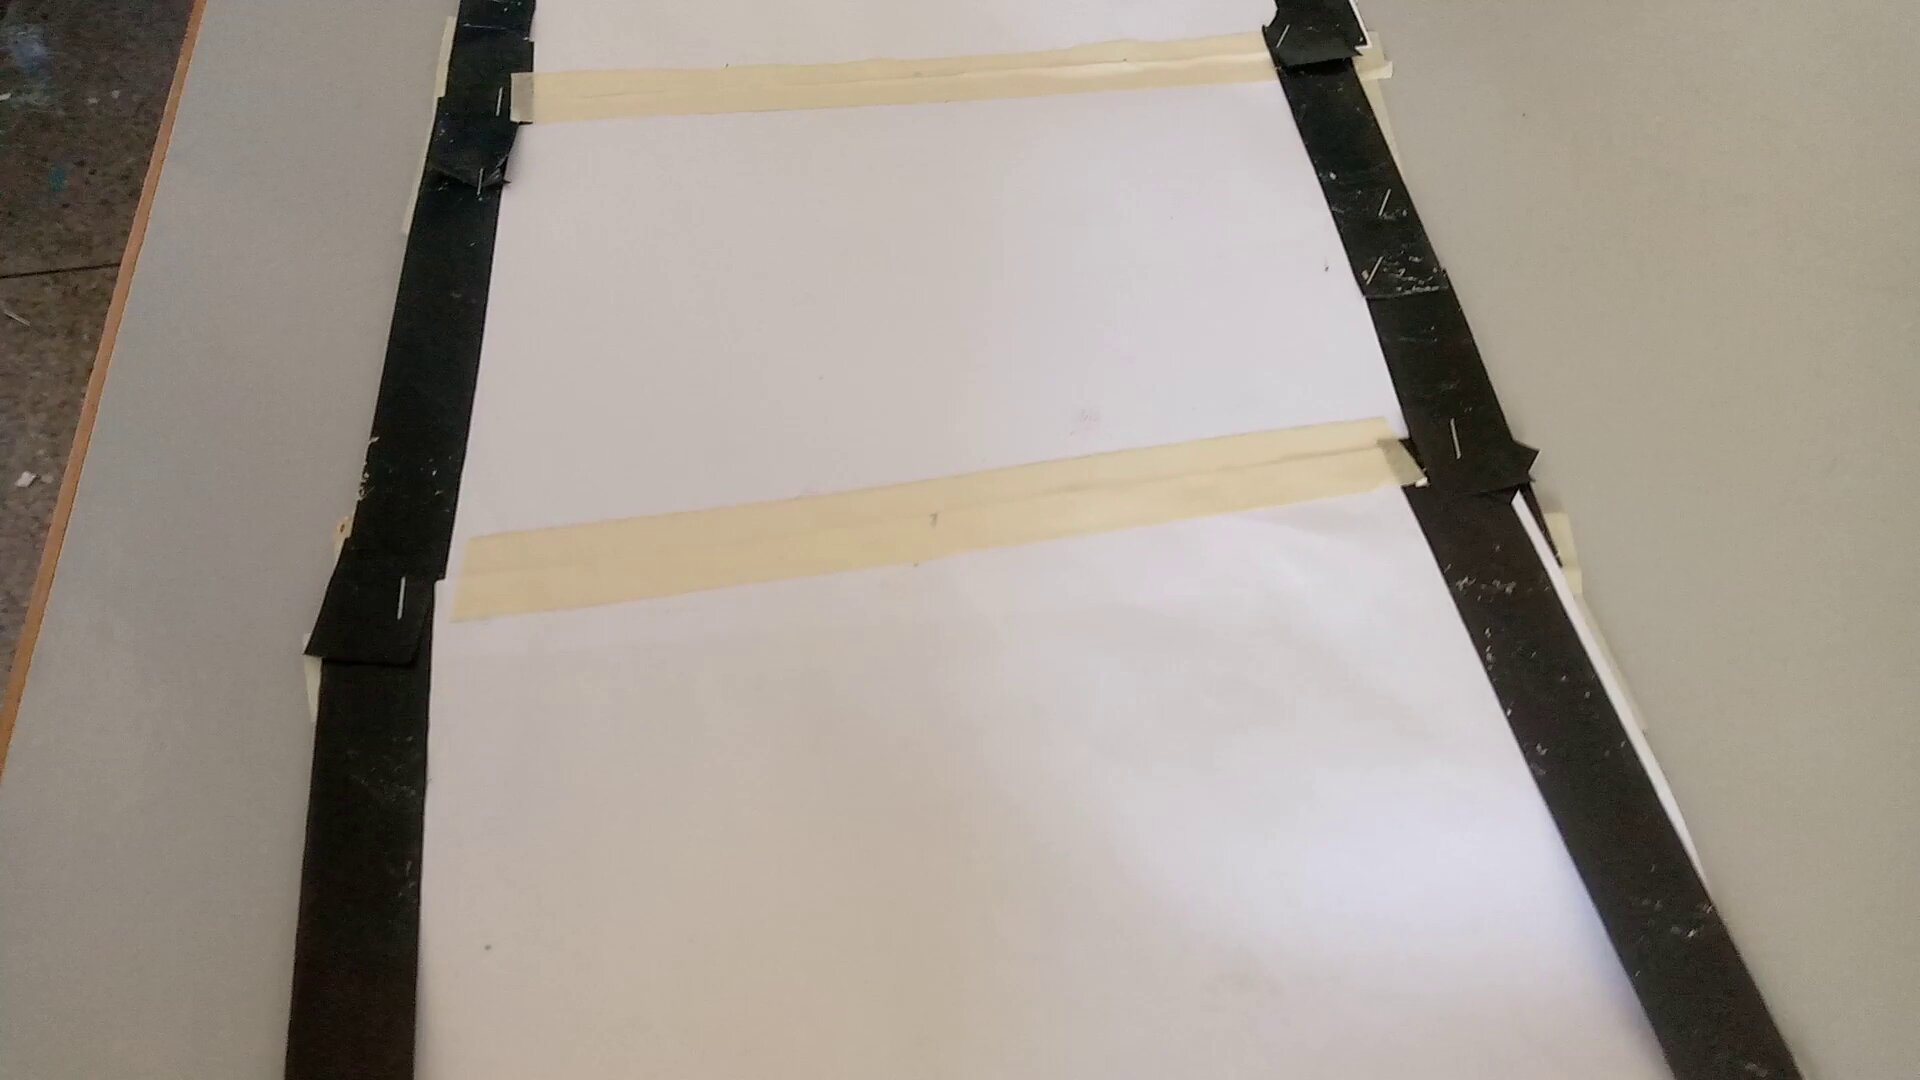right: (280, 338, 1734, 694), (389, 3, 1518, 211)
